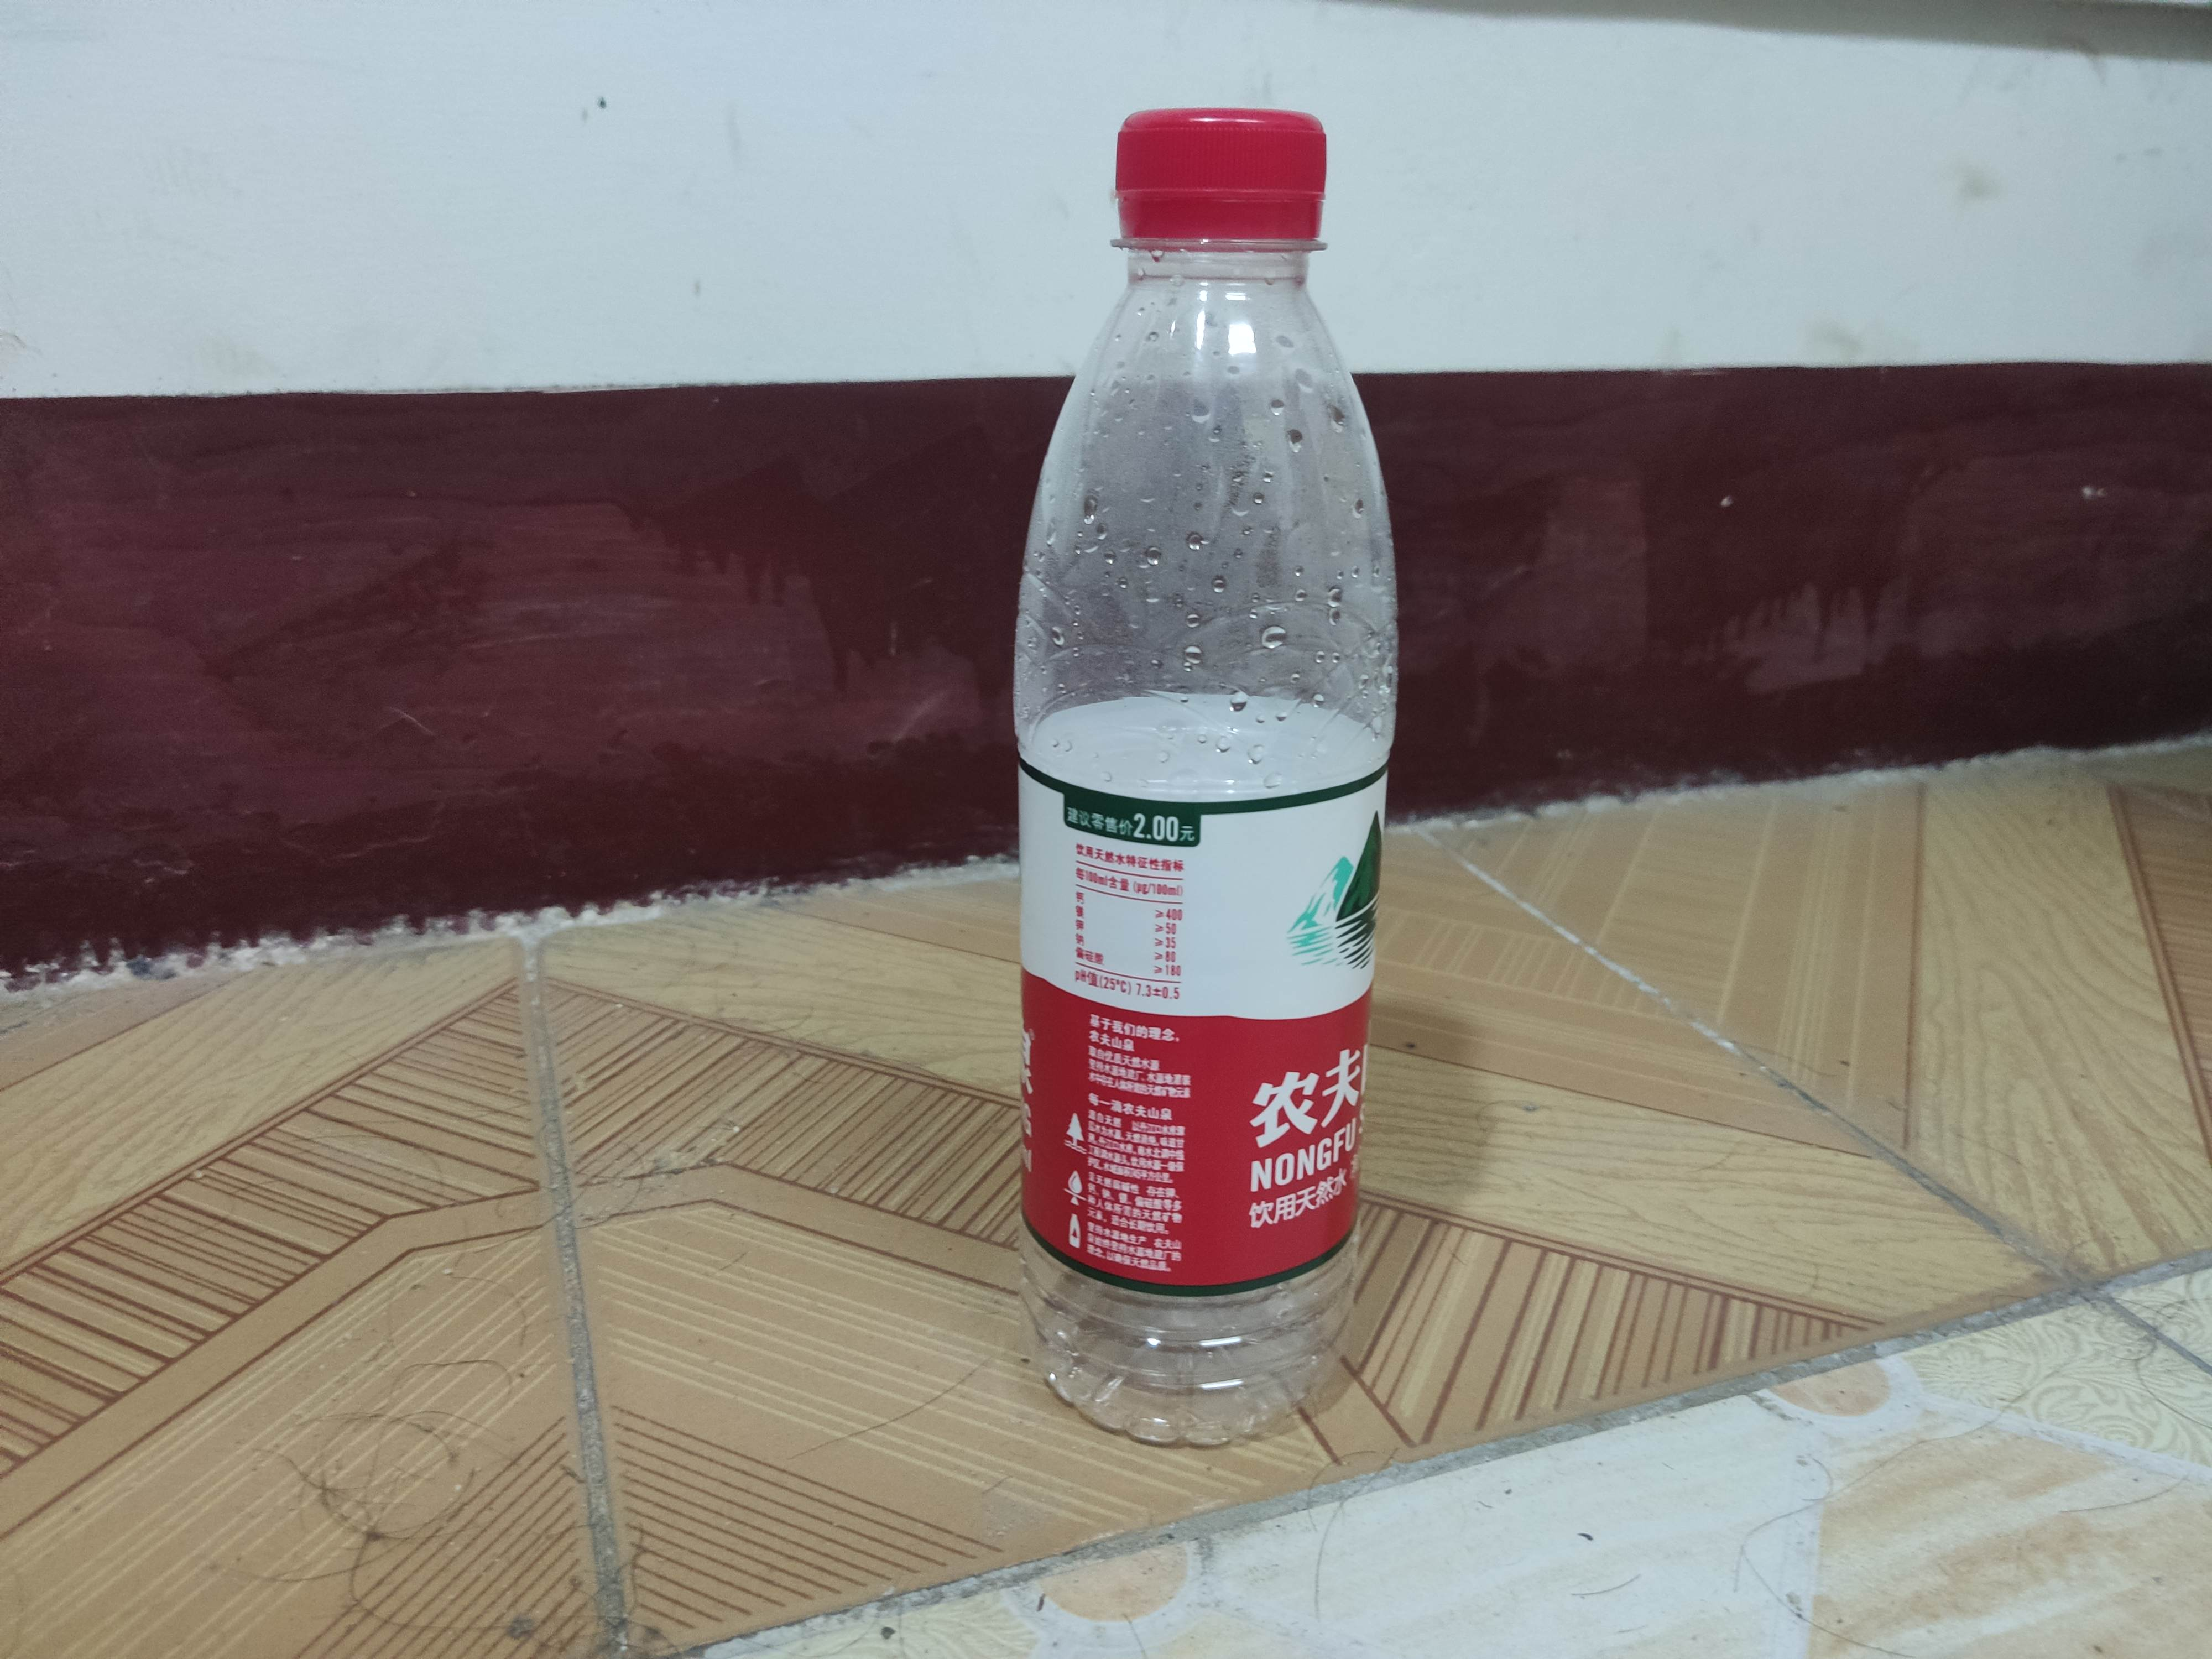Plastic Bottle: (1010, 103, 1404, 1457)
